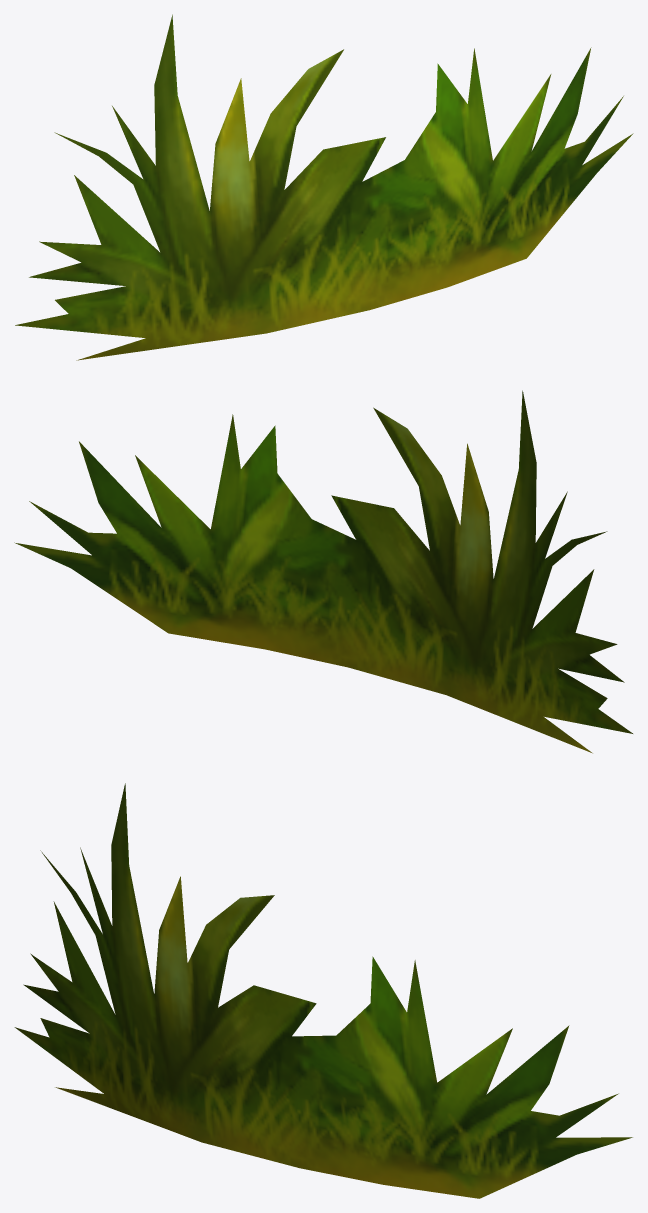
Rendered from sences_changbanpo_guanmu005.FBX.
3 renders of one model, top to bottom at view 1: azimuth 30°, elevation 25°; view 2: azimuth 150°, elevation 25°; view 3: azimuth 330°, elevation 25°, orthographic.
Parts seen in each view (by area): view 1: sences_changbanpo_guanmu005; view 2: sences_changbanpo_guanmu005; view 3: sences_changbanpo_guanmu005.
Boxes of the visible parts, x1,y1,x2,y2 form: sences_changbanpo_guanmu005: (15,14,633,360); sences_changbanpo_guanmu005: (14,390,632,753); sences_changbanpo_guanmu005: (14,783,632,1198).
Size of the model in its own units: 2.2 by 0.2178 by 1.13.
